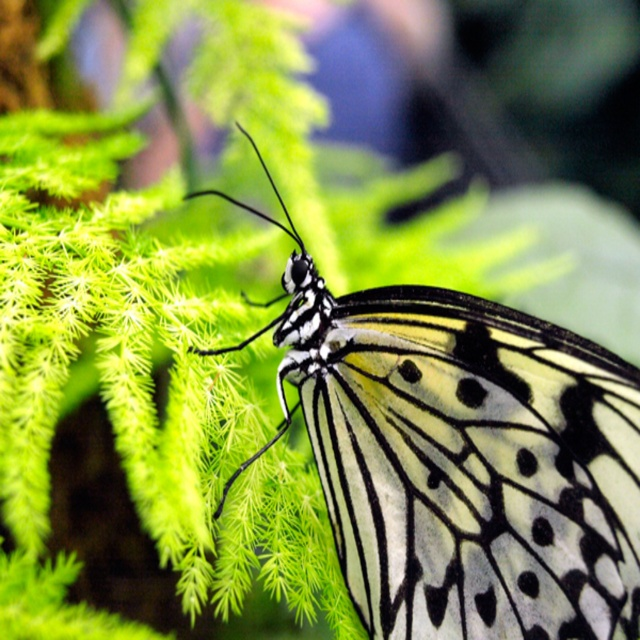Butterfly: (188, 119, 639, 639)
